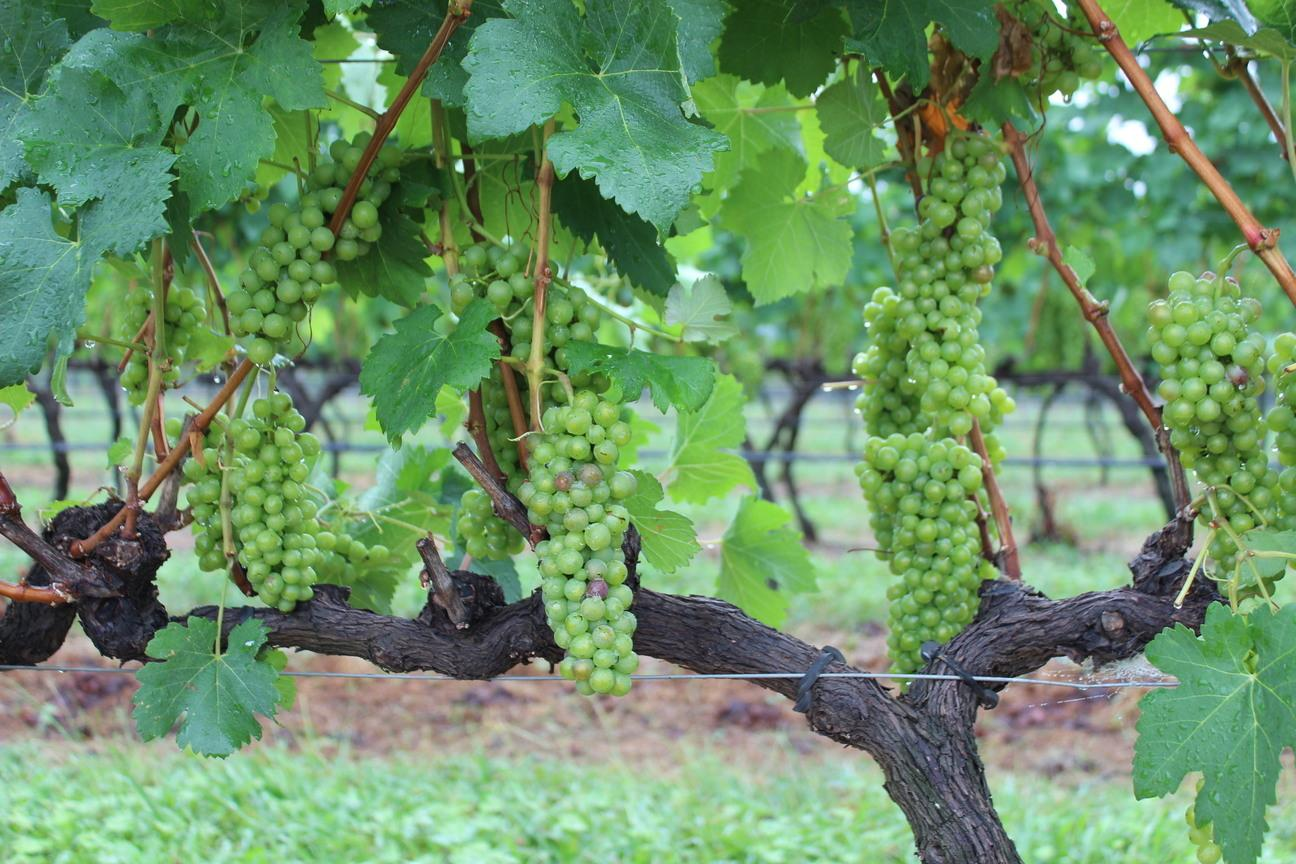leaf: (463, 0, 726, 229), (62, 0, 325, 210), (1133, 603, 1295, 862), (0, 187, 162, 386), (18, 67, 174, 229), (132, 616, 281, 754), (722, 148, 853, 302), (361, 298, 498, 441), (553, 172, 674, 295), (845, 0, 997, 90), (716, 496, 814, 626), (0, 0, 68, 187), (716, 0, 847, 95), (692, 74, 798, 187), (661, 373, 753, 503), (566, 341, 715, 410), (623, 468, 699, 572), (816, 67, 888, 167), (665, 275, 736, 344), (667, 0, 726, 82), (0, 382, 35, 429), (699, 195, 716, 214)
